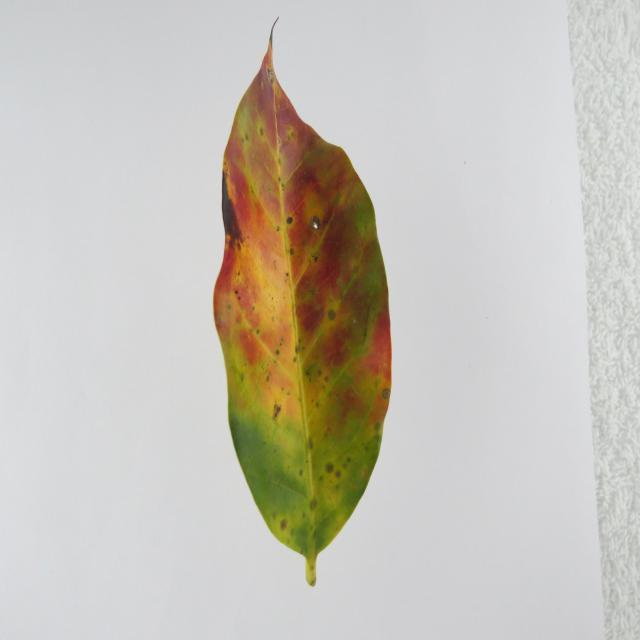DeficienciaNutricional-Fosforo: (214, 28, 391, 585)
